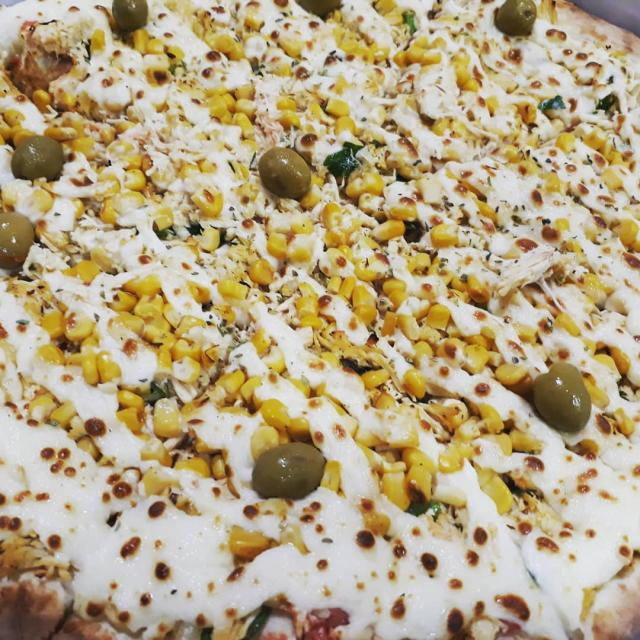green_olives: (247, 442, 331, 501), (532, 364, 597, 436), (259, 148, 314, 200), (11, 133, 68, 182), (0, 211, 37, 269), (495, 0, 539, 38), (110, 0, 151, 31), (301, 0, 346, 19)
pizza: (0, 0, 640, 640)
